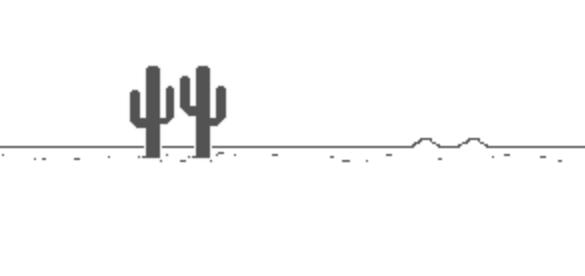pterodactyl: (125, 61, 229, 166)
